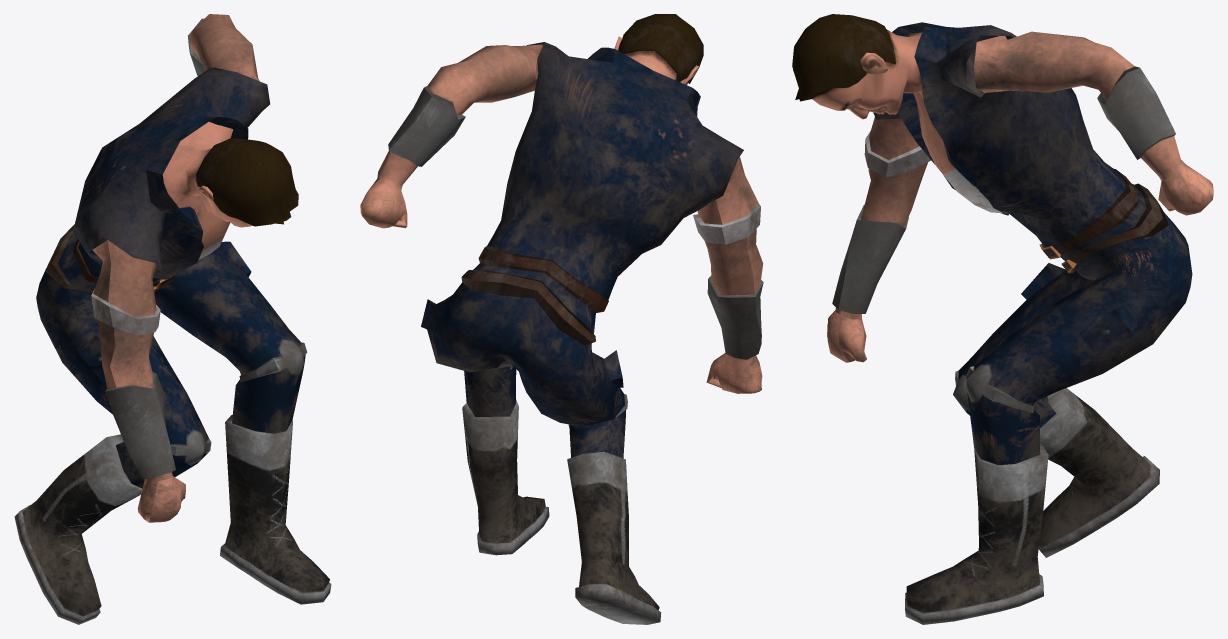
File: Anim_coger_objeto_jugador.0029.obj
3 renders of one model, left to right at view 1: azimuth 30°, elevation 25°; view 2: azimuth 150°, elevation 25°; view 3: azimuth 270°, elevation 25°, orthographic. The views are drawn at different scales.
Visible parts, largest first — view 1: polySurface1; view 2: polySurface1; view 3: polySurface1.
Boxes of the visible parts, x1,y1,x2,y2 form: polySurface1: (14, 14, 331, 624); polySurface1: (360, 14, 763, 624); polySurface1: (792, 14, 1213, 624).
Size of the model in its own units: 3.56 by 7.19 by 4.64.
